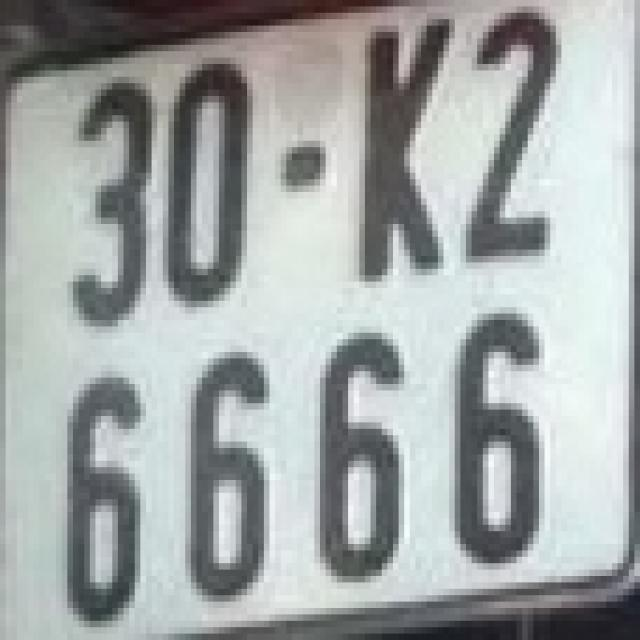0: (162, 58, 252, 307)
2: (466, 6, 561, 262)
3: (73, 77, 157, 320)
6: (449, 307, 545, 563), (314, 327, 410, 582), (185, 352, 275, 602), (62, 371, 146, 621)
K: (354, 12, 449, 282)
